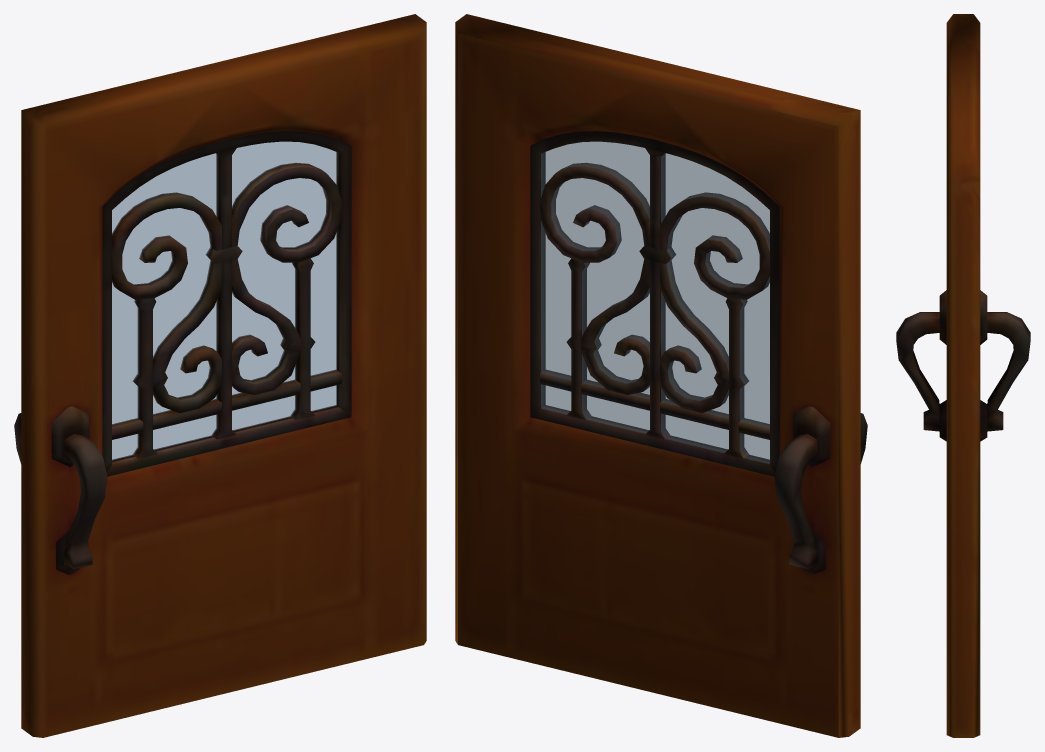
The model's file is door-iron-grill-s.glb.
The picture shows the model from 3 angles, left to right: view 1: azimuth 30°, elevation 25°; view 2: azimuth 150°, elevation 25°; view 3: azimuth 270°, elevation 25°; orthographic projection. The views are drawn at different scales.
Size of the model in its own units: 12 by 18 by 3.97.
Materials: 2 (1 with a texture image).
